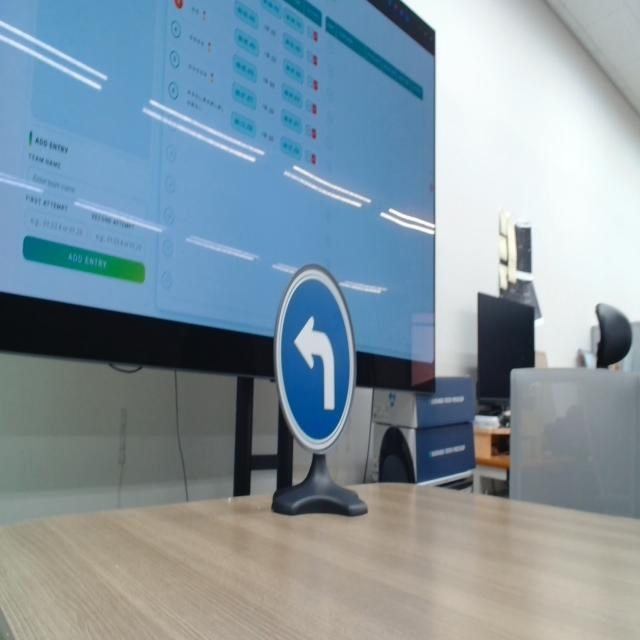left_direction: (269, 258, 357, 449)
